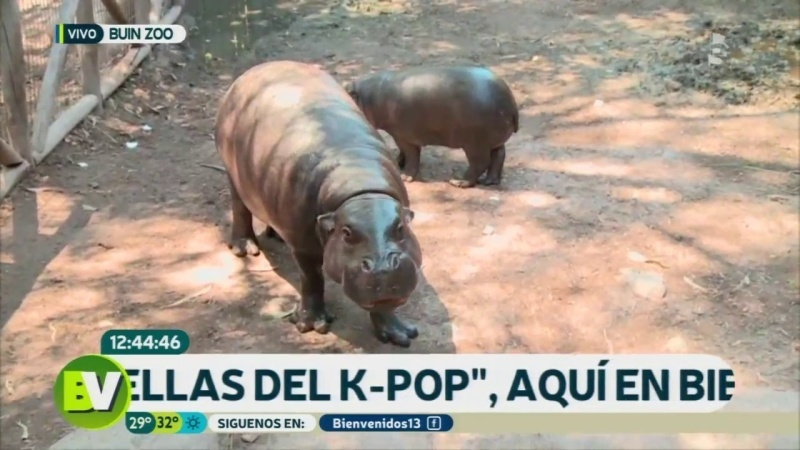hipopotamo: (196, 51, 439, 353), (346, 47, 535, 204)
